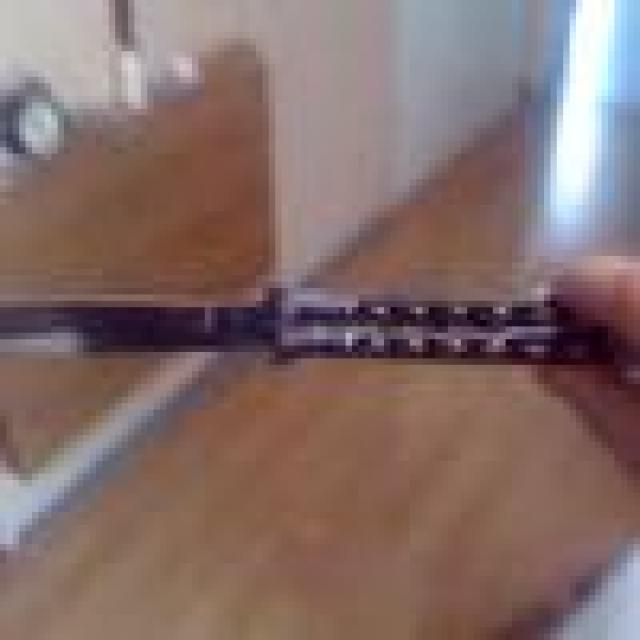knife: (0, 296, 593, 362)
